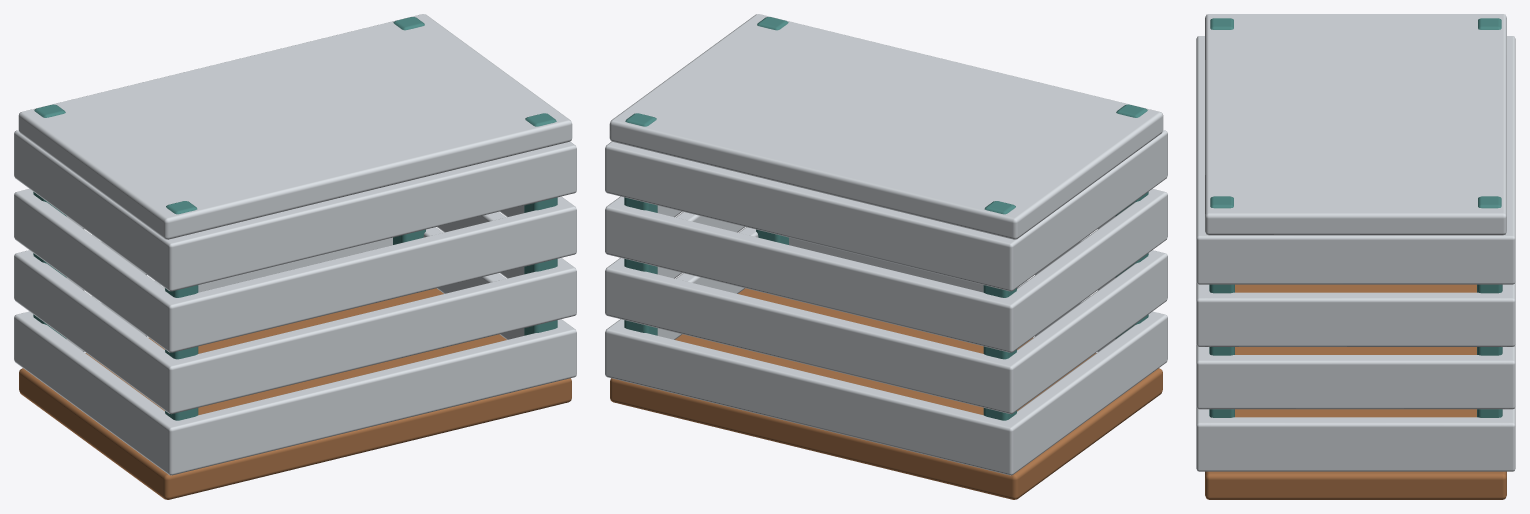
Rendered from wp-conteneur-futuriste.glb.
The picture shows the model from 3 angles, left to right: view 1: azimuth 30°, elevation 25°; view 2: azimuth 150°, elevation 25°; view 3: azimuth 270°, elevation 25°; orthographic projection.
Visible parts, largest first — view 1: wp-conteneur-futuriste; view 2: wp-conteneur-futuriste; view 3: wp-conteneur-futuriste.
Part boxes in pixels (left/top/right/bottom): wp-conteneur-futuriste: left=14, top=14, right=576, bottom=499; wp-conteneur-futuriste: left=605, top=14, right=1167, bottom=499; wp-conteneur-futuriste: left=1196, top=14, right=1515, bottom=499.
Size of the model in its own units: 0.9 by 0.6 by 0.6.
